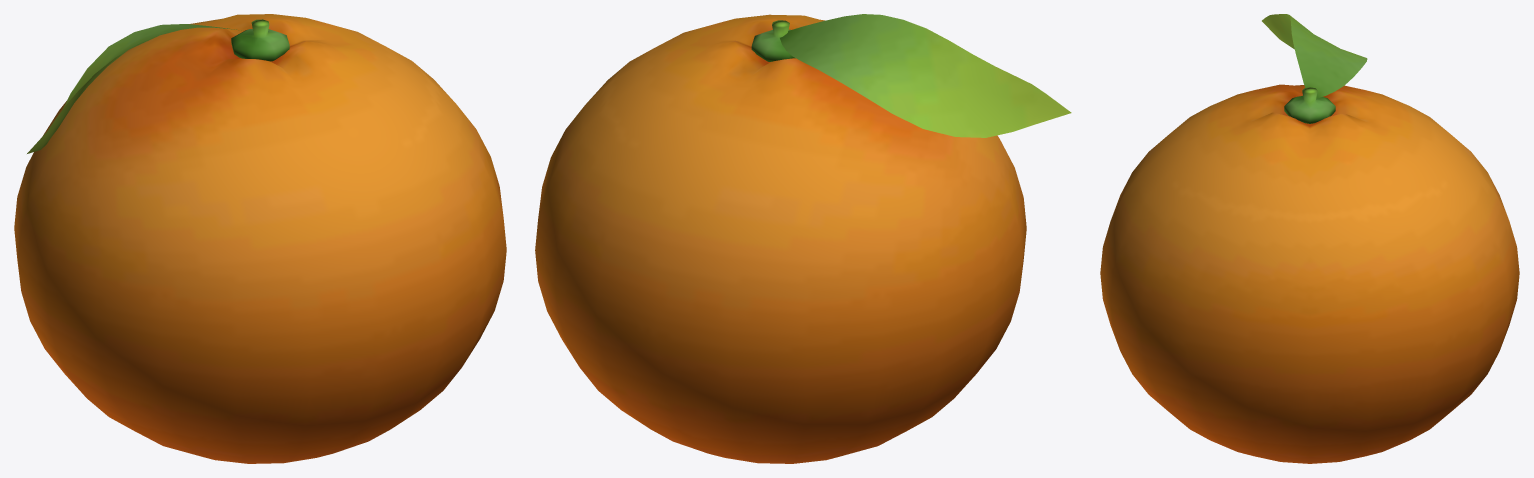
Rendered from Orange.obj.
3 views of the same model, side by side, from view 1: azimuth 30°, elevation 25°; view 2: azimuth 150°, elevation 25°; view 3: azimuth 270°, elevation 25° (orthographic). The views are drawn at different scales.
Visible parts, largest first — view 1: Orange; view 2: Orange; view 3: Orange.
Part boxes in pixels (x1,y1,x2,y2): Orange: (14, 14, 506, 463); Orange: (535, 14, 1071, 463); Orange: (1100, 14, 1519, 463).
Bounding box in the file's own units: 0.2033 × 0.1785 × 0.1827.
Materials: 1 (1 with a texture image).
